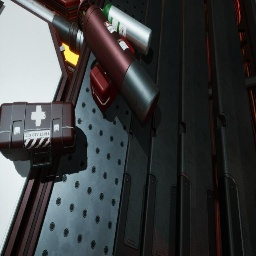0: (99, 4, 152, 56)
FirstAidBox ,: (0, 101, 76, 170), (90, 36, 135, 113)
NitrogenTank ,: (77, 0, 160, 128)
